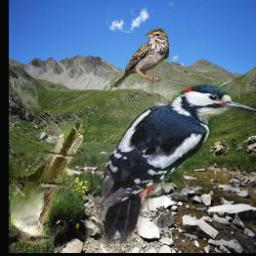Cuckoo: (11, 122, 83, 246)
Sparrow: (110, 28, 170, 87)
Woodpecker: (95, 85, 256, 245)
